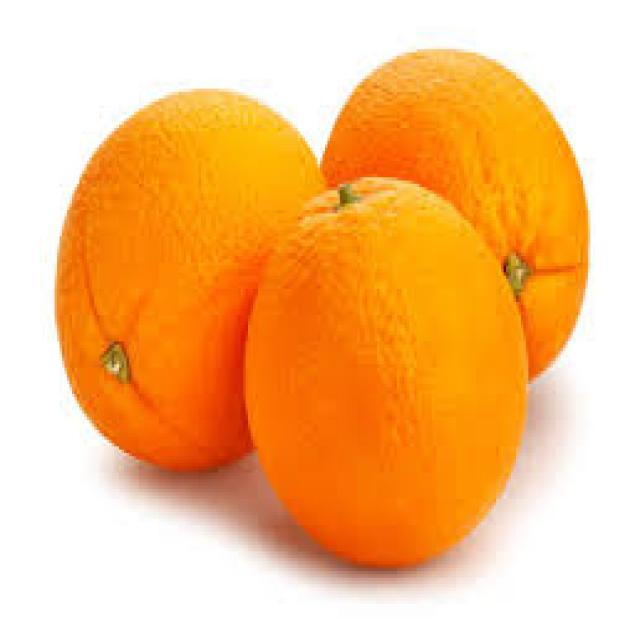Orange: (55, 94, 330, 481), (273, 201, 517, 547), (350, 49, 589, 364)
